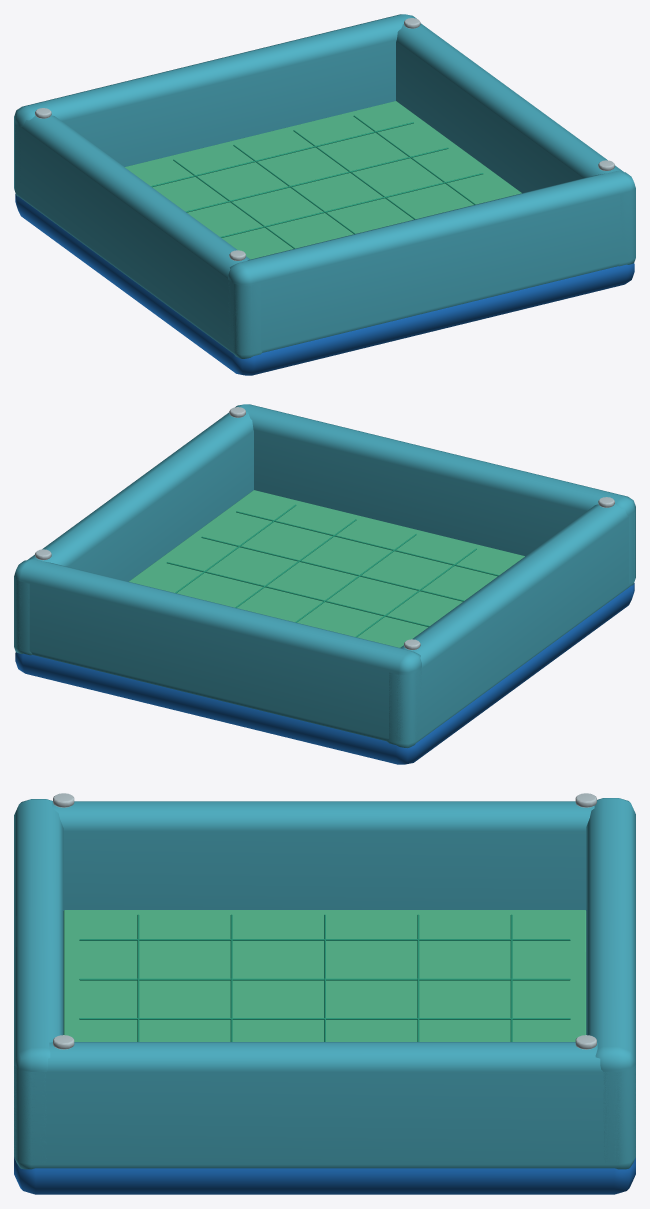
File: tray_electronics.glb
The picture shows the model from 3 angles, top to bottom: view 1: azimuth 30°, elevation 25°; view 2: azimuth 150°, elevation 25°; view 3: azimuth 270°, elevation 25°; orthographic projection. The views are drawn at different scales.
Parts seen in each view (by area): view 1: tray_electronics; view 2: tray_electronics; view 3: tray_electronics.
Part boxes in pixels (x1,y1,x2,y2): tray_electronics: (14,14,635,375); tray_electronics: (14,404,635,764); tray_electronics: (14,793,635,1194).
Size of the model in its own units: 1 by 0.2728 by 1.
1 material, 1 textured.
